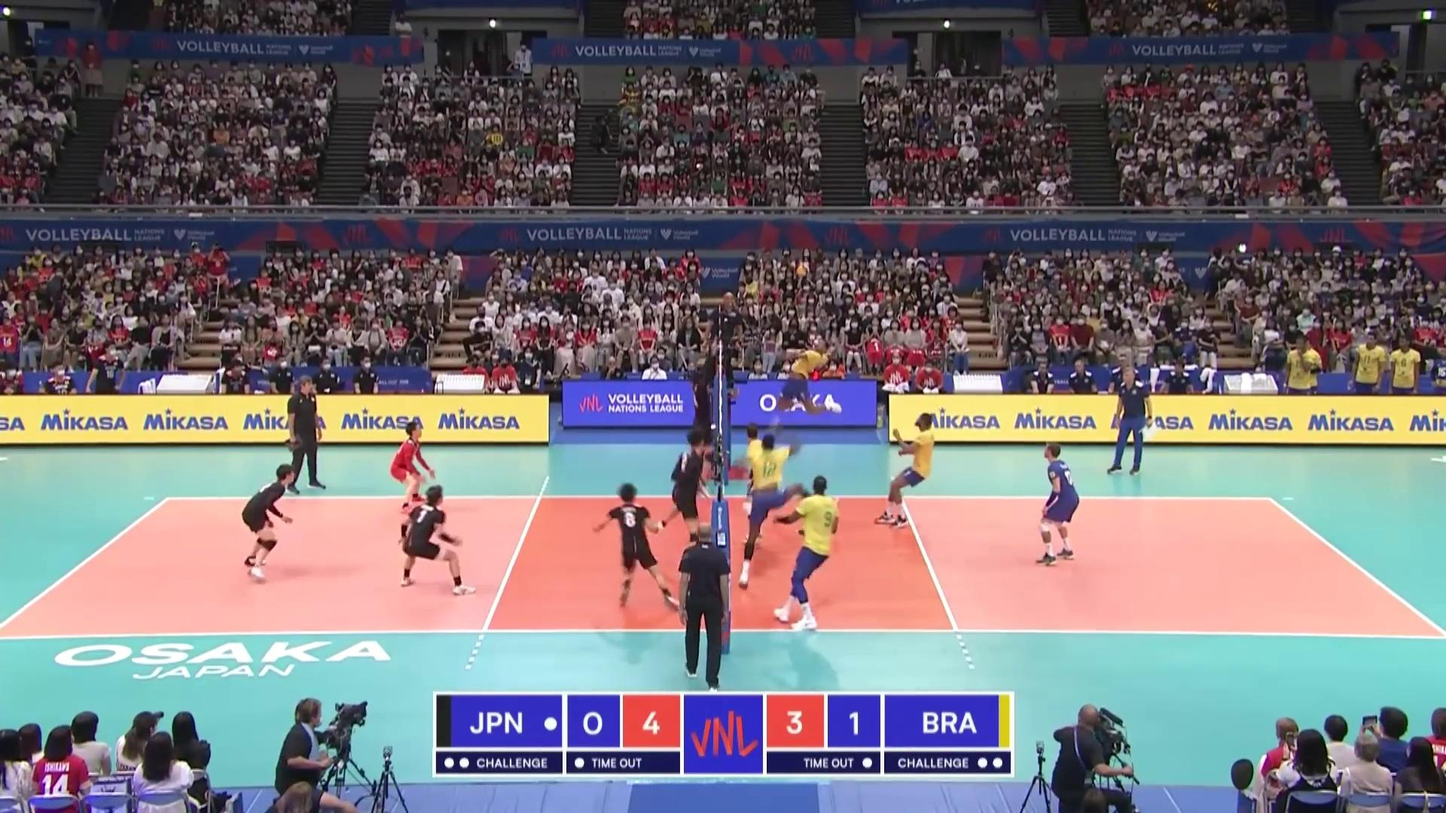player: (735, 435, 827, 589), (595, 481, 676, 616), (772, 474, 839, 632), (399, 484, 477, 593), (238, 463, 295, 584), (655, 430, 707, 558), (877, 411, 934, 527), (1036, 443, 1080, 567), (776, 333, 842, 413), (384, 417, 439, 509), (737, 422, 772, 548), (691, 367, 717, 501)
refree: (670, 531, 732, 690), (709, 291, 744, 398)
